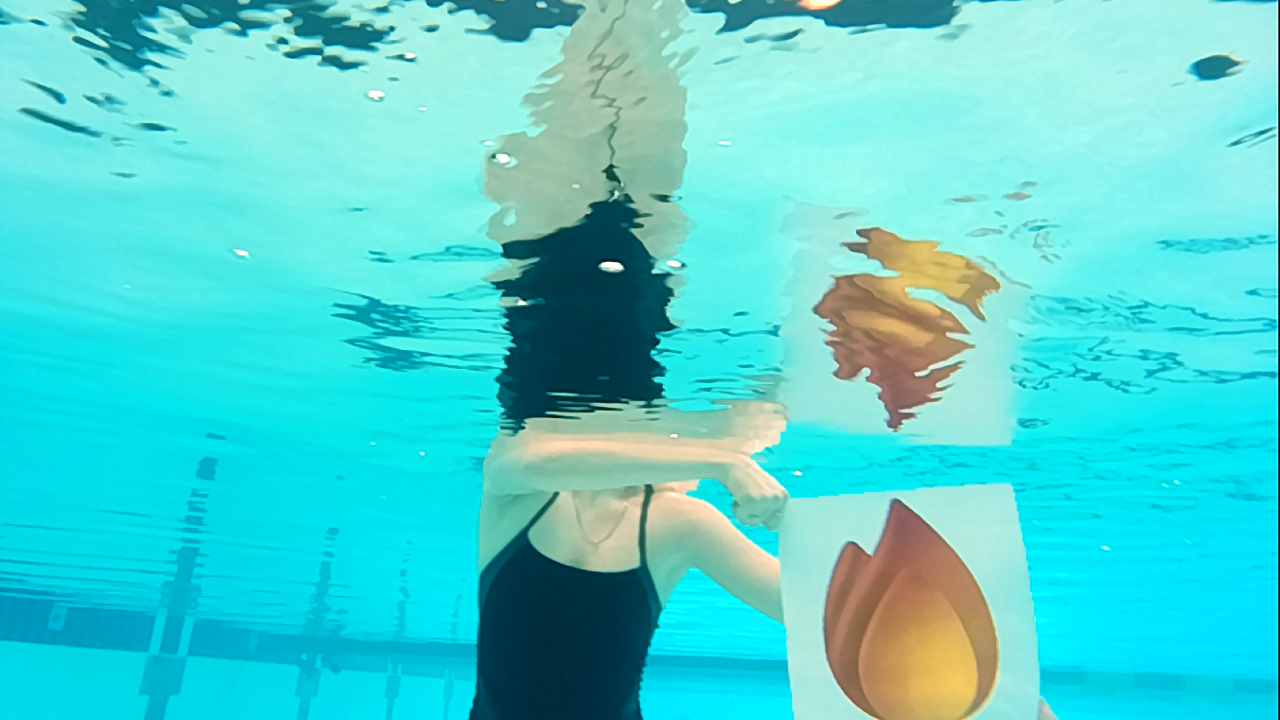fire: (795, 491, 1028, 719)
